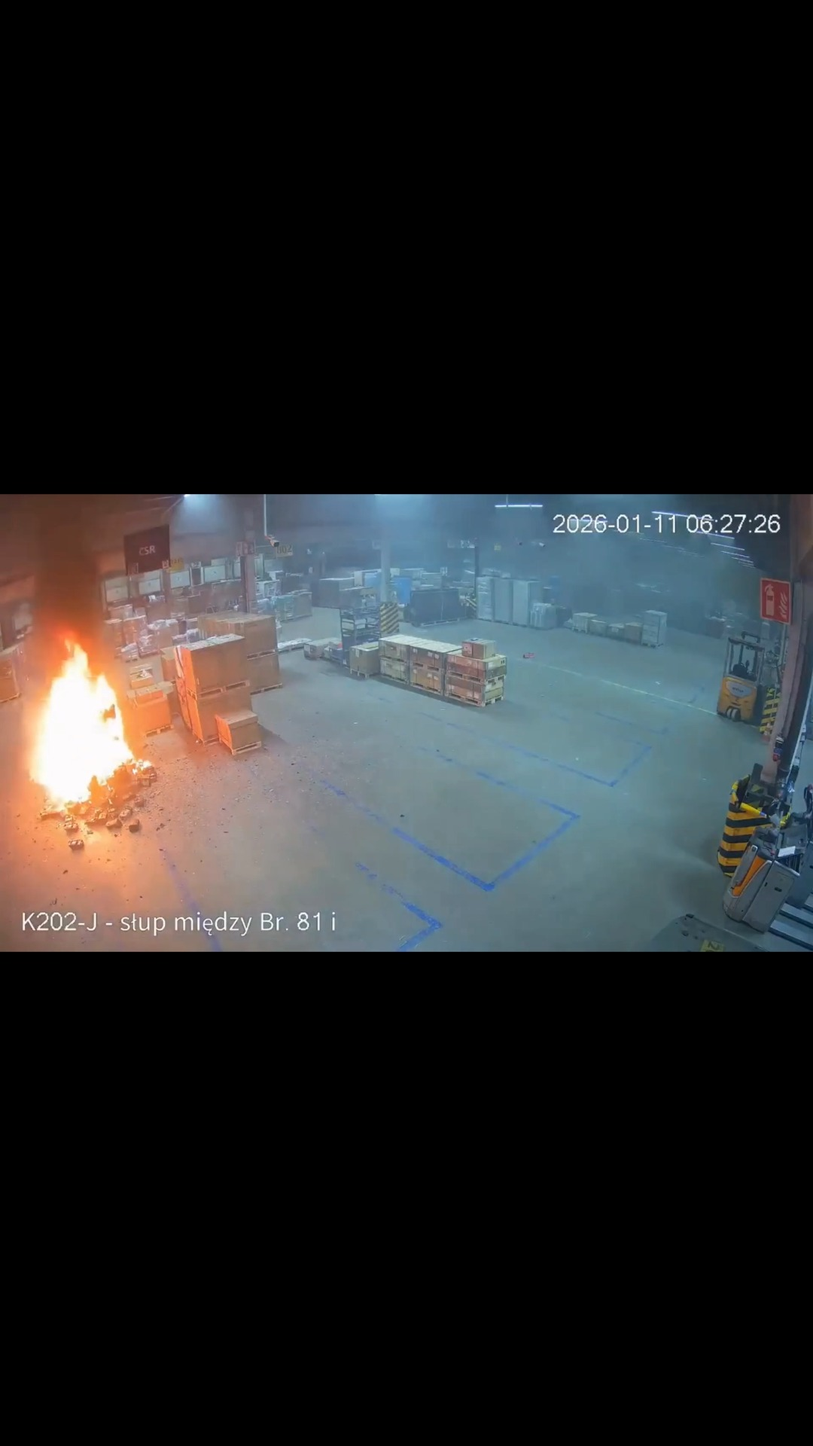fire: (26, 636, 147, 817)
smoke: (0, 496, 181, 677)
